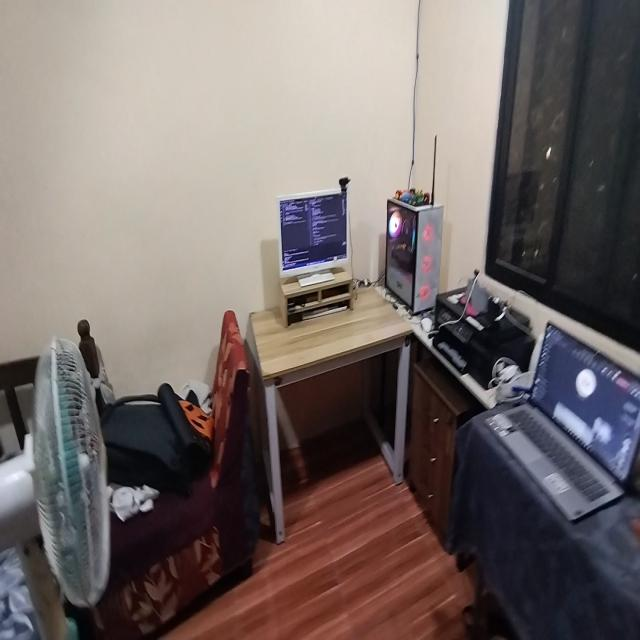table: (255, 273, 412, 523)
